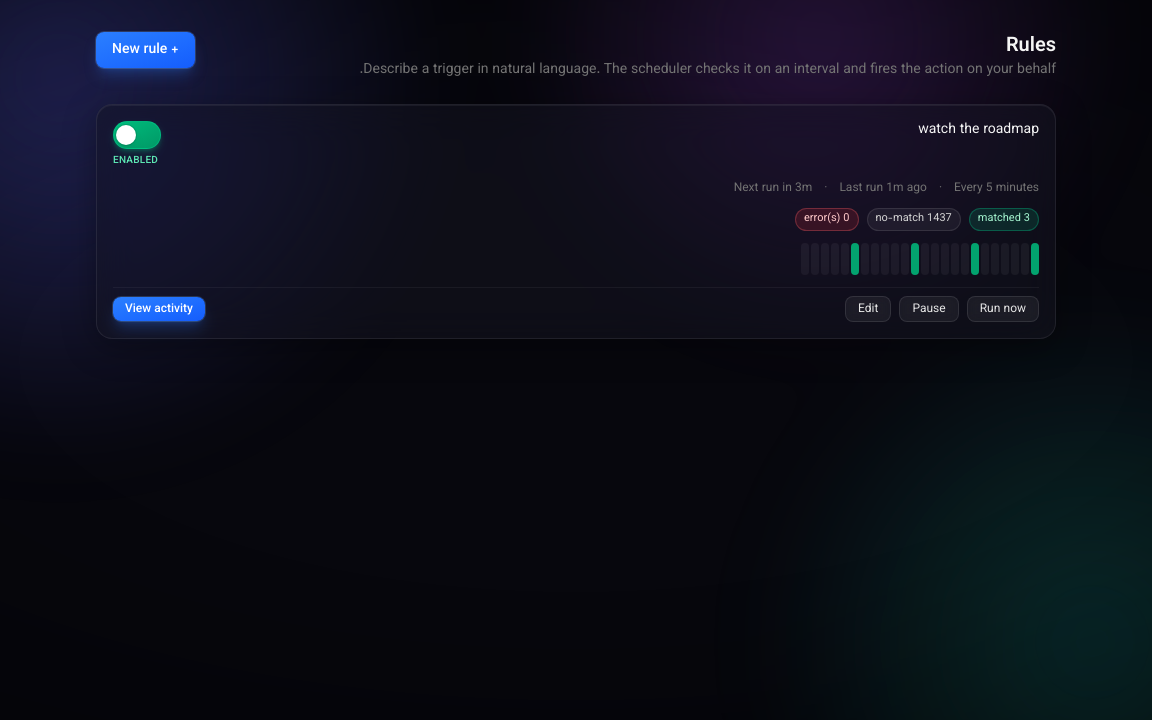
Test: Rules dashboard › opens the editor prefilled when Edit is clicked
Expected: the element with test id "rule-health-card-12" is shown, [96,104,1056,338]
Step 1. Click the button with test id "rule-edit-12" → (868, 308), box [845,296,891,322]
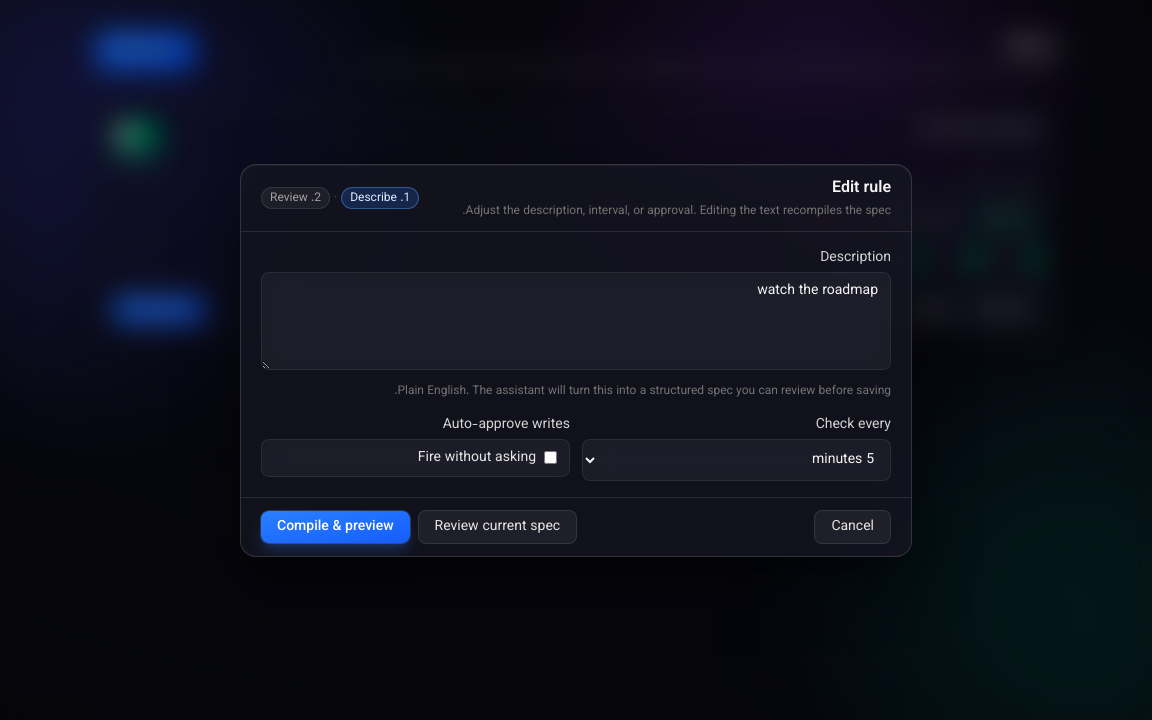
Result: the text box with test id "rule-editor-description" holds "watch the roadmap" at [261,272,891,370]
Result: the heading "Edit rule" is shown at [832,176,891,200]
